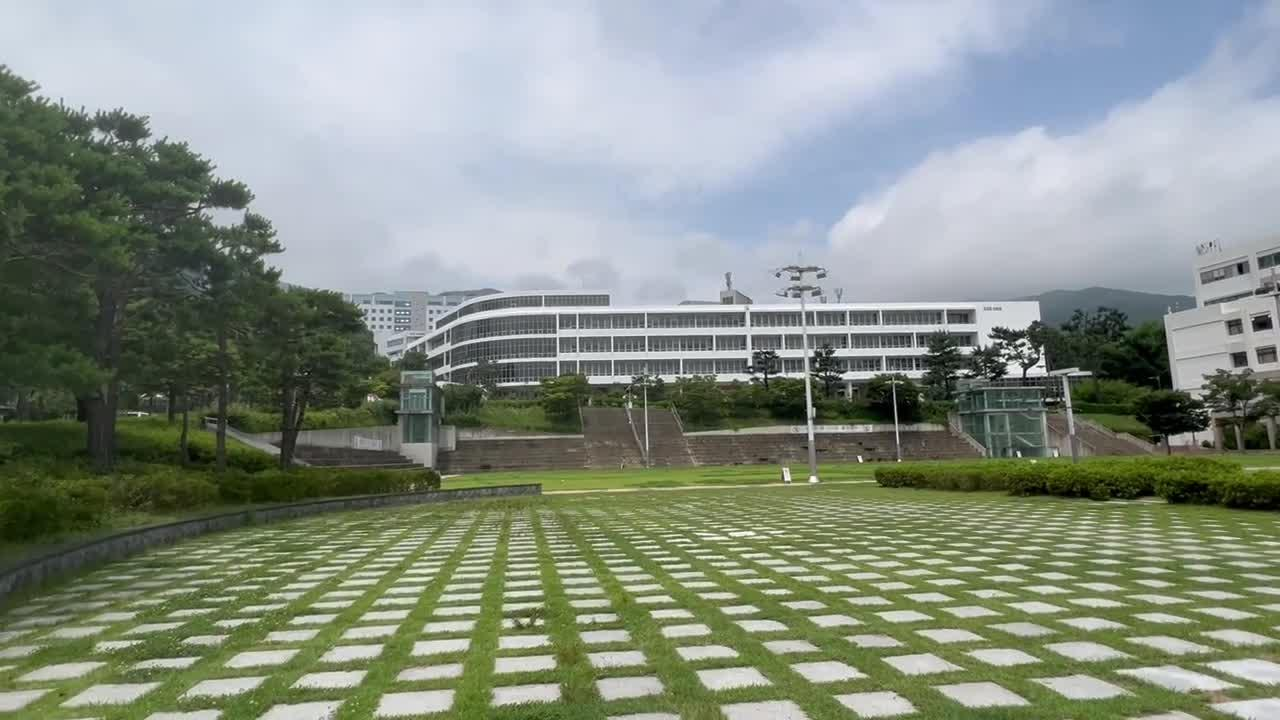building: (436, 271, 1041, 369)
